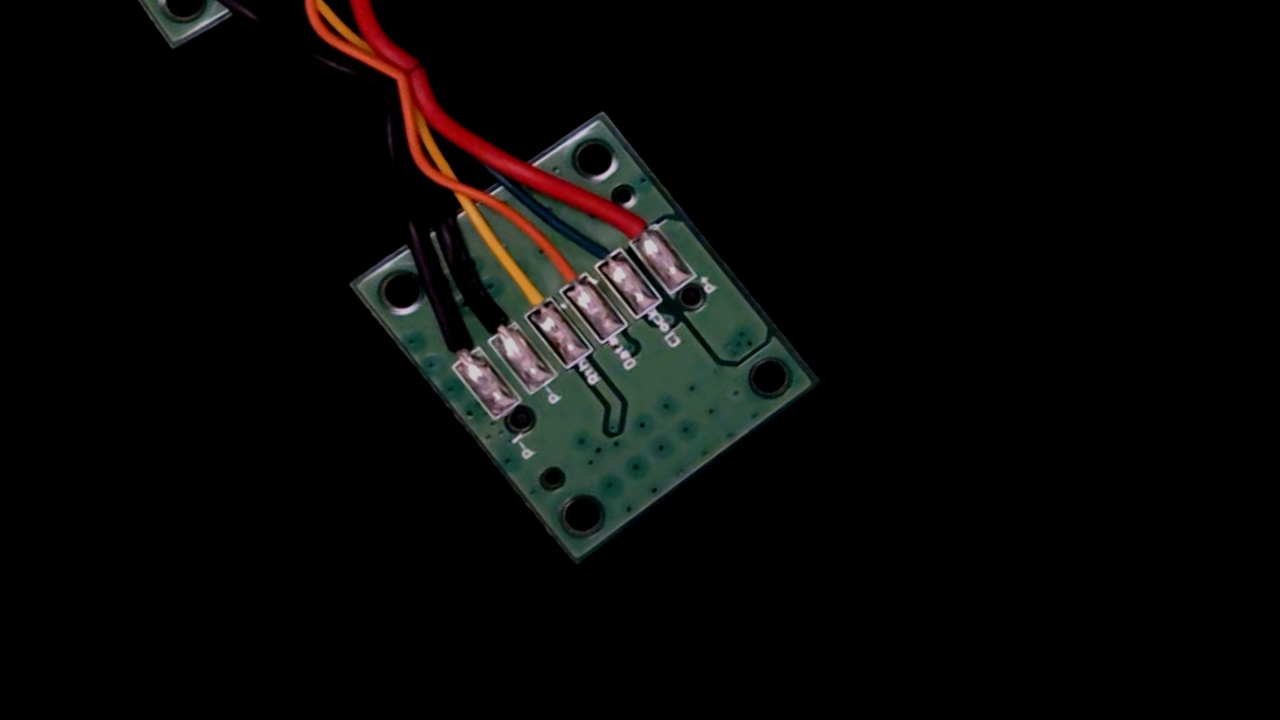Black: (450, 274, 534, 359)
Black1: (413, 307, 492, 387)
Green: (568, 217, 635, 281)
Orange: (522, 224, 602, 306)
Red: (594, 181, 673, 261)
Yellow: (485, 246, 568, 331)
